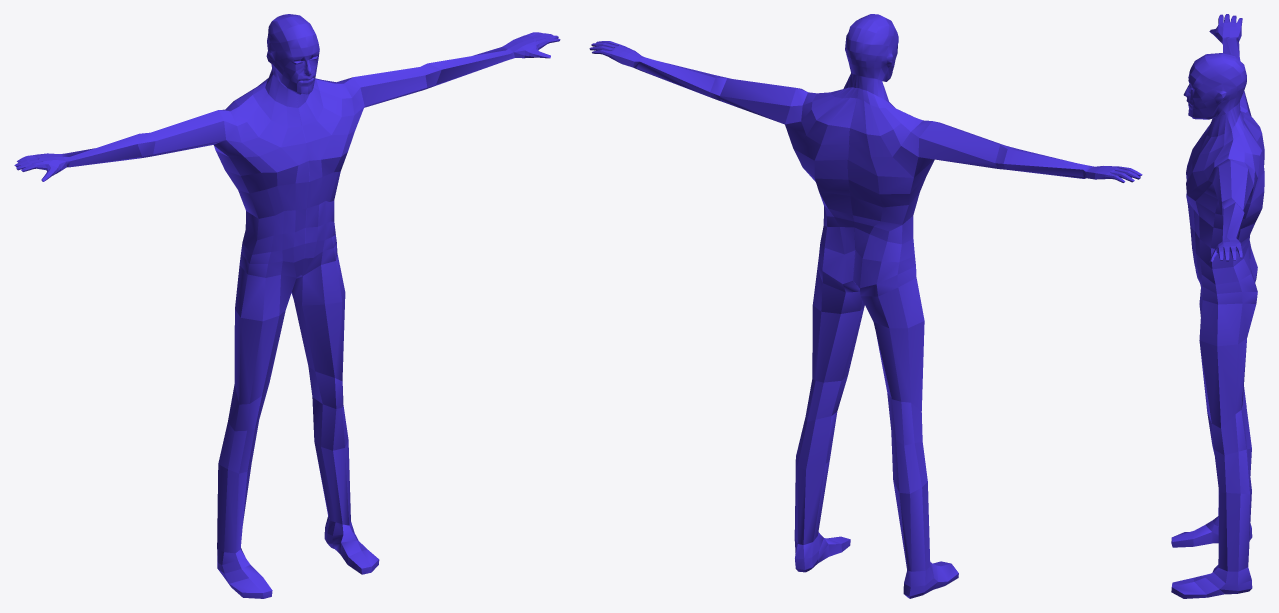
File: testMeshMaterial2.glb
3 views of the same model, side by side, from view 1: azimuth 30°, elevation 25°; view 2: azimuth 150°, elevation 25°; view 3: azimuth 270°, elevation 25° (orthographic). The views are drawn at different scales.
Visible parts, largest first — view 1: tronToon.001; view 2: tronToon.001; view 3: tronToon.001.
Part boxes in pixels (x1,y1,x2,y2): tronToon.001: (14,14,560,598); tronToon.001: (589,14,1142,598); tronToon.001: (1171,14,1264,598).
Size of the model in its own units: 7.17 by 6.96 by 1.15.
